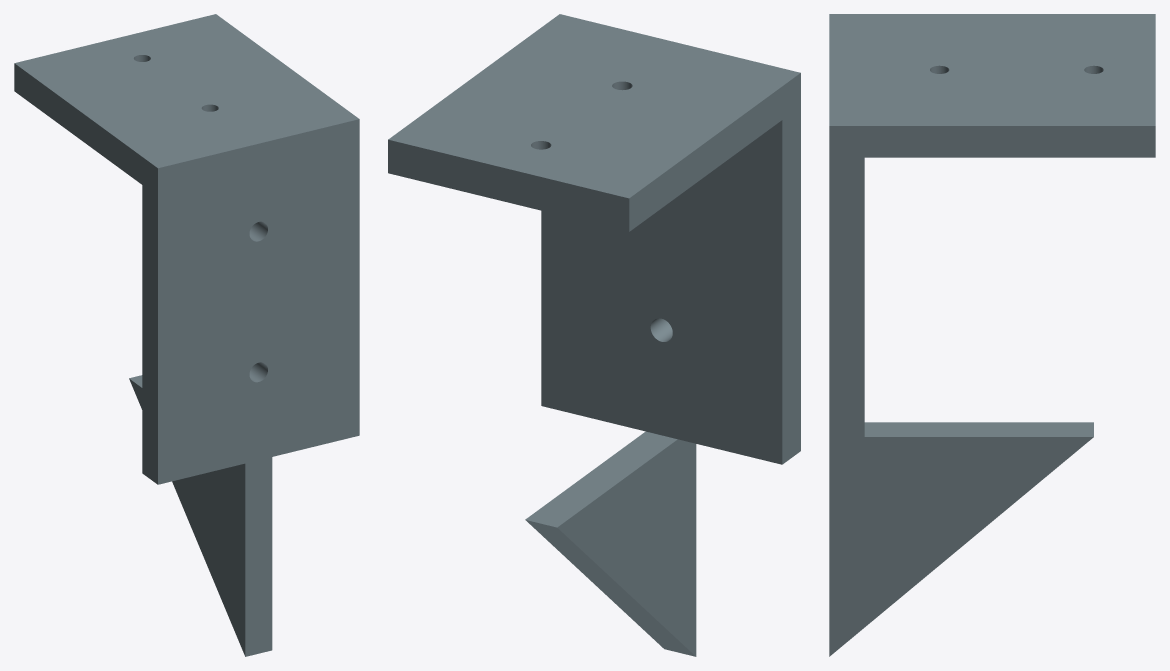
File: est_escuadra_muro.glb
3 renders of one model, left to right at view 1: azimuth 30°, elevation 25°; view 2: azimuth 150°, elevation 25°; view 3: azimuth 270°, elevation 25°, orthographic. The views are drawn at different scales.
Parts seen in each view (by area): view 1: world; view 2: world; view 3: world.
Part boxes in pixels (x1,y1,x2,y2): world: [14, 14, 359, 656]; world: [388, 14, 800, 656]; world: [829, 14, 1155, 656].
Bounding box in the file's own units: 60 × 145 × 74.
